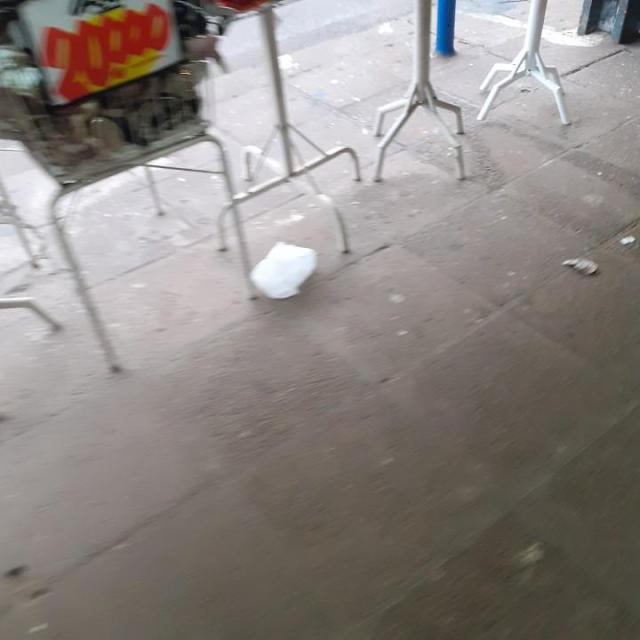litter: (244, 234, 324, 306)
